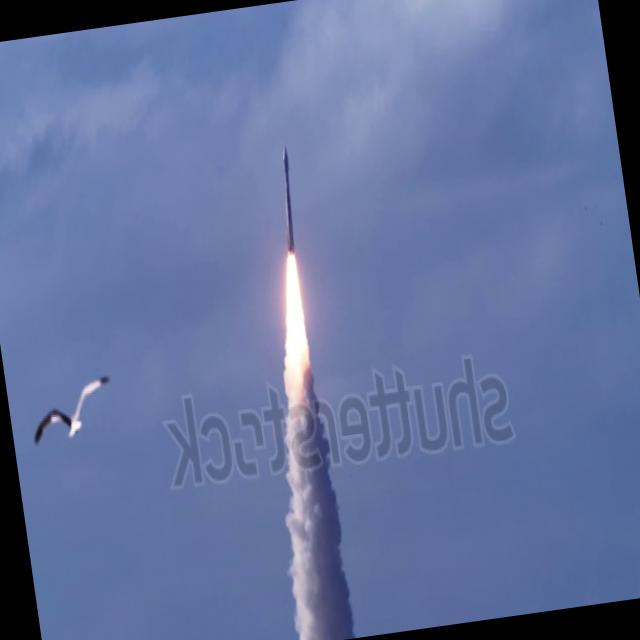rocket: (252, 132, 344, 504)
